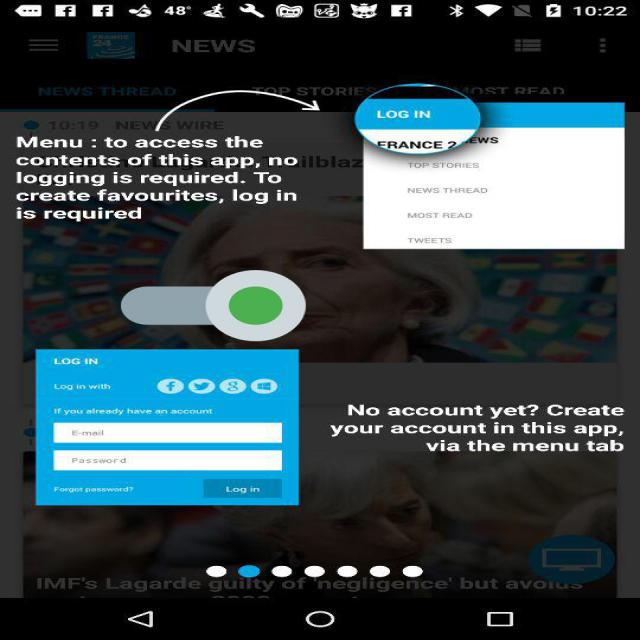social proof: (121, 240, 306, 371)
